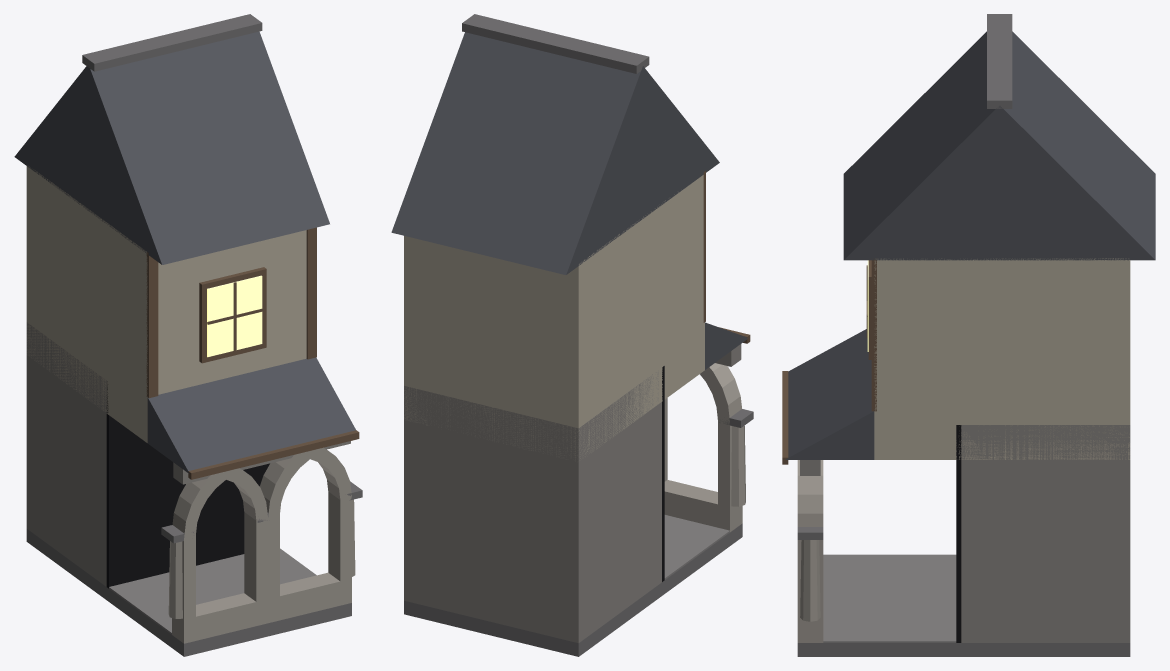
File: cloister_bay.glb
The picture shows the model from 3 angles, left to right: view 1: azimuth 30°, elevation 25°; view 2: azimuth 150°, elevation 25°; view 3: azimuth 270°, elevation 25°; orthographic projection. The views are drawn at different scales.
Parts seen in each view (by area): view 1: Upper, Plinth; view 2: Upper, Plinth; view 3: Upper, Plinth.
Part boxes in pixels (left/top/right/bottom): Upper: left=14, top=14, right=362, bottom=634; Plinth: left=26, top=529, right=351, bottom=656; Upper: left=391, top=14, right=753, bottom=643; Plinth: left=404, top=480, right=742, bottom=656; Upper: left=782, top=14, right=1155, bottom=642; Plinth: left=797, top=617, right=1130, bottom=656.
Bounding box in the file's own units: 4.5 × 12 × 7.3.
